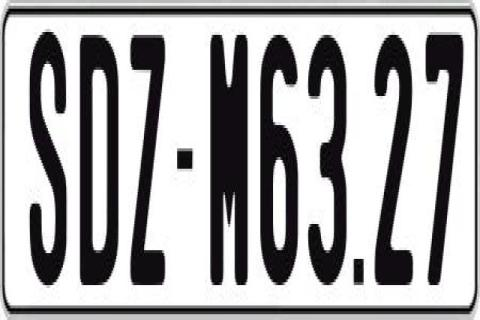0: (306, 26, 349, 294), (372, 29, 416, 285), (422, 29, 464, 285), (260, 26, 299, 291)
D: (78, 26, 116, 294)
M: (209, 29, 252, 297)
S: (30, 24, 71, 282)
Z: (126, 35, 167, 303)
